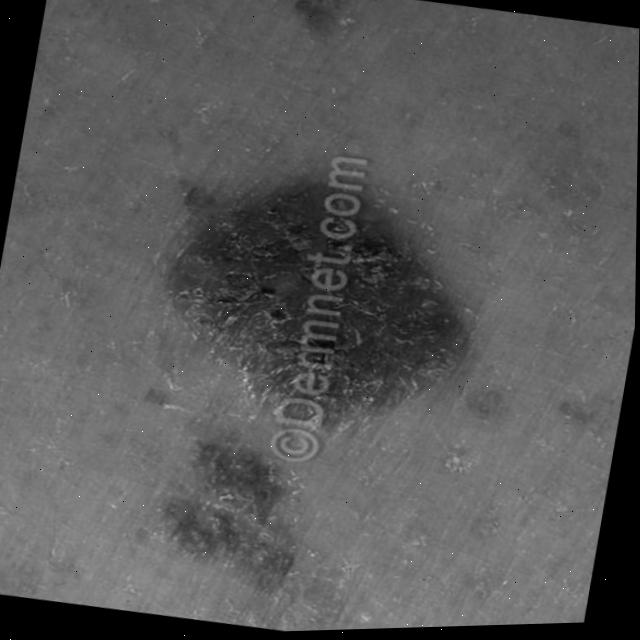Eczema: (174, 180, 474, 400), (156, 449, 300, 569)
